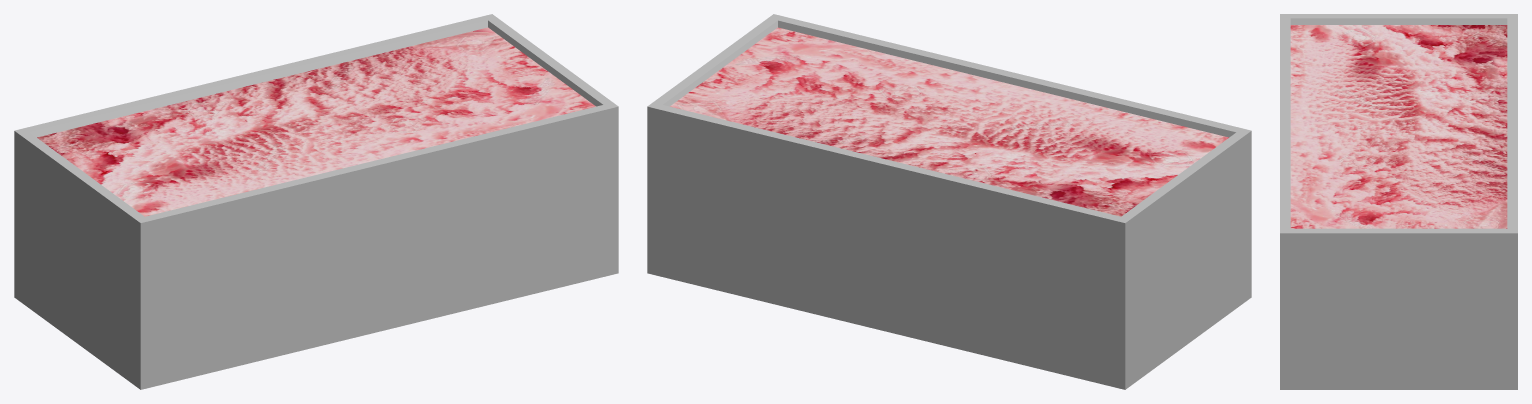
Rendered from ice_cream_tray_strawberry.dae.
3 renders of one model, left to right at view 1: azimuth 30°, elevation 25°; view 2: azimuth 150°, elevation 25°; view 3: azimuth 270°, elevation 25°, orthographic. The views are drawn at different scales.
Visible parts, largest first — view 1: SketchUp (×3); view 2: SketchUp (×3); view 3: SketchUp (×3).
Boxes of the visible parts, bbox=[...] form: SketchUp (×3): bbox=[14, 14, 618, 389]; SketchUp (×3): bbox=[647, 14, 1251, 389]; SketchUp (×3): bbox=[1280, 14, 1517, 389].
Size of the model in its own units: 14.17 by 6.5 by 4.72.
